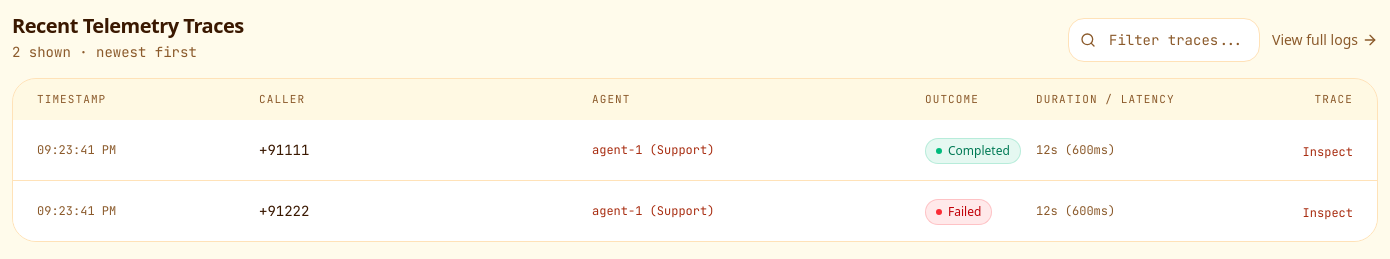
Scenario: command center › filters traces and opens the inspector
Expected: the text "+91111" is shown, left=259, top=140, right=309, bottom=158
Expected: the text "+91222" is shown, left=259, top=202, right=309, bottom=220
Type "+91111" into the field labelled "Filter traces" at [1164, 40], box left=1068, top=18, right=1260, bottom=62
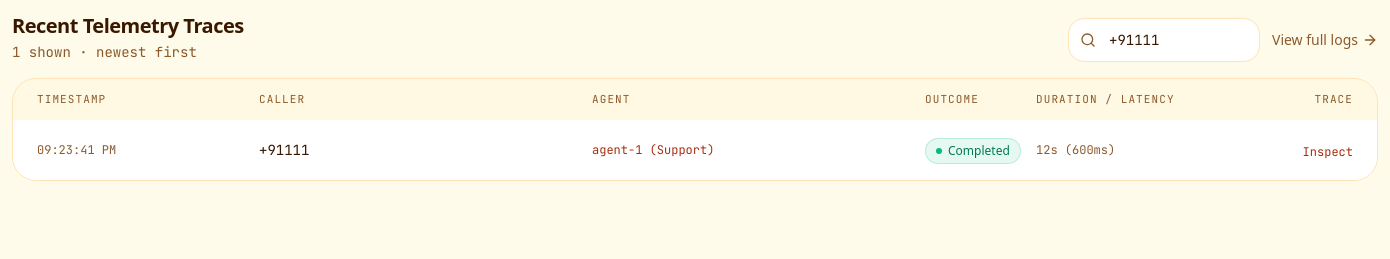
Expected: the text "+91111" is shown, left=259, top=140, right=309, bottom=158
Now the text "+91222" is gone
Now the text "1 shown · newest first" is shown, box left=12, top=43, right=197, bottom=61
